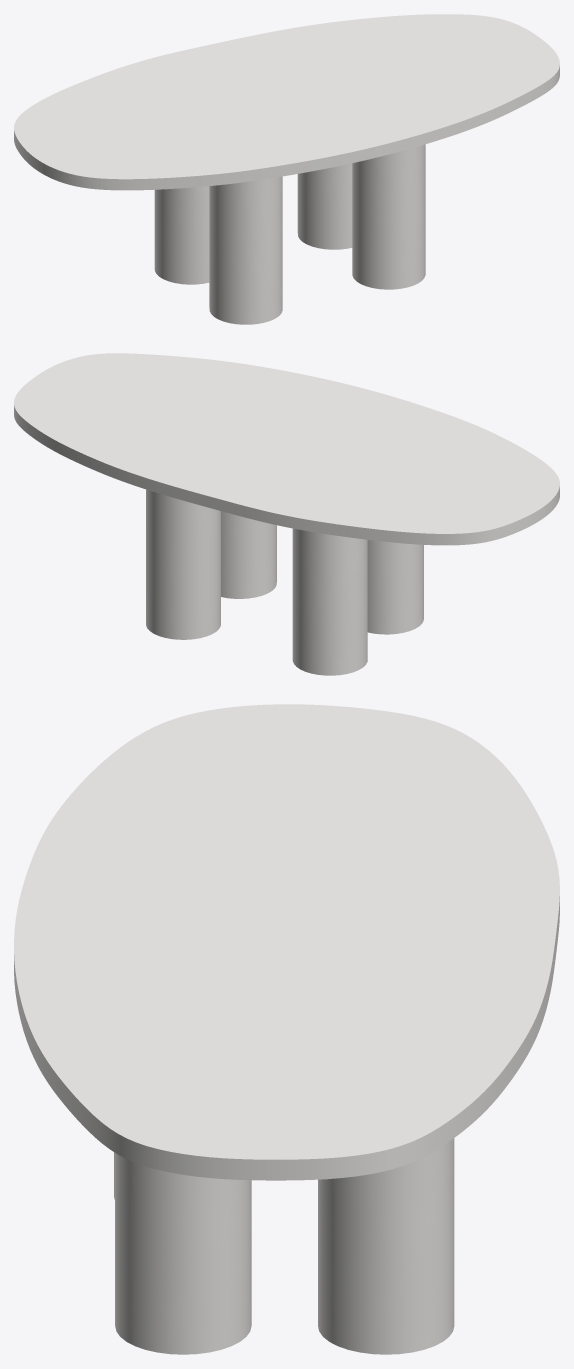
File: purewhite_danish_standard_grove.glb
The picture shows the model from 3 angles, top to bottom: view 1: azimuth 30°, elevation 25°; view 2: azimuth 150°, elevation 25°; view 3: azimuth 270°, elevation 25°; orthographic projection. The views are drawn at different scales.
Visible parts, largest first — view 1: standard_danish, grove; view 2: standard_danish, grove; view 3: standard_danish, grove.
Part boxes in pixels (x1=…): standard_danish: x1=14, y1=14, x2=559, y2=190; grove: x1=154, y1=144, x2=425, y2=324; standard_danish: x1=14, y1=353, x2=559, y2=545; grove: x1=146, y1=489, x2=423, y2=675; standard_danish: x1=14, y1=704, x2=559, y2=1180; grove: x1=114, y1=1138, x2=454, y2=1354.
Size of the model in its own units: 7.5 by 2.5 by 3.8.
1 material, 1 textured.
